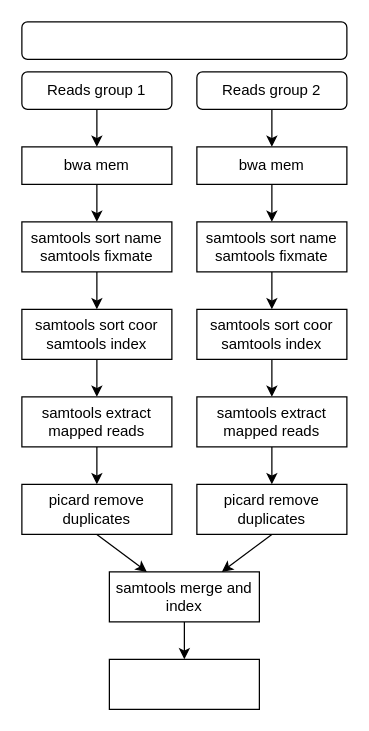
Some shapes in this 369 by 731 pixel diagram are drawn without their labels. The shapes that lost their labels are listed below. From the top down, each one's centre as x and y in pixels, then its label:
pixel 184 40: Sample A
pixel 183 683: gatk variants calling
